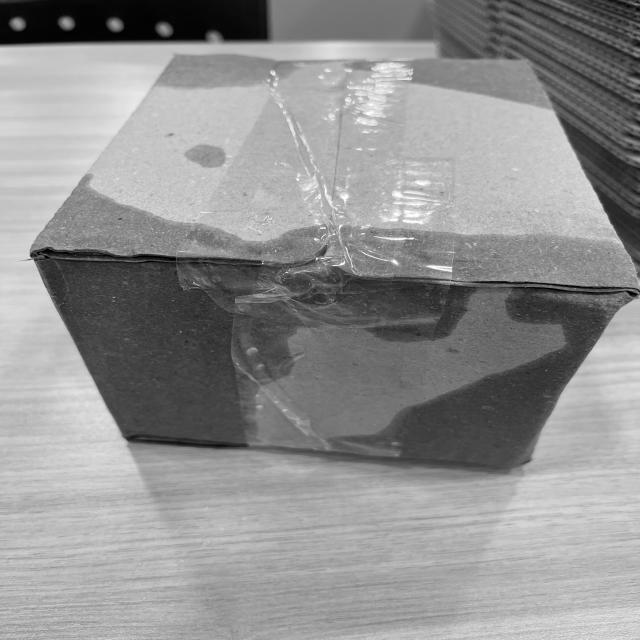wet: (33, 247, 246, 446), (284, 206, 637, 312), (374, 347, 586, 471), (157, 60, 545, 103)
